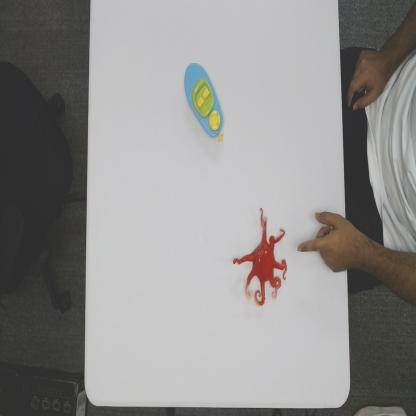Boat: (184, 58, 226, 139)
Hand: (298, 209, 364, 274)
Octopus: (235, 209, 285, 302)
